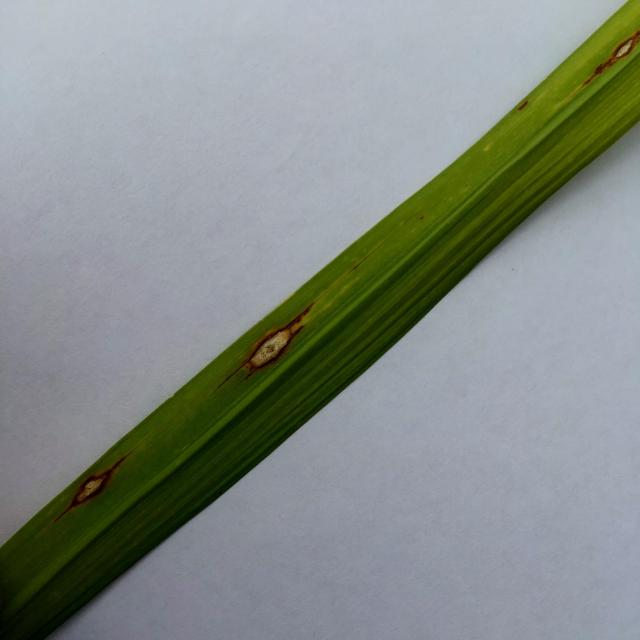Leaf_Blast: (213, 258, 318, 390), (40, 427, 149, 534), (577, 12, 640, 91)
